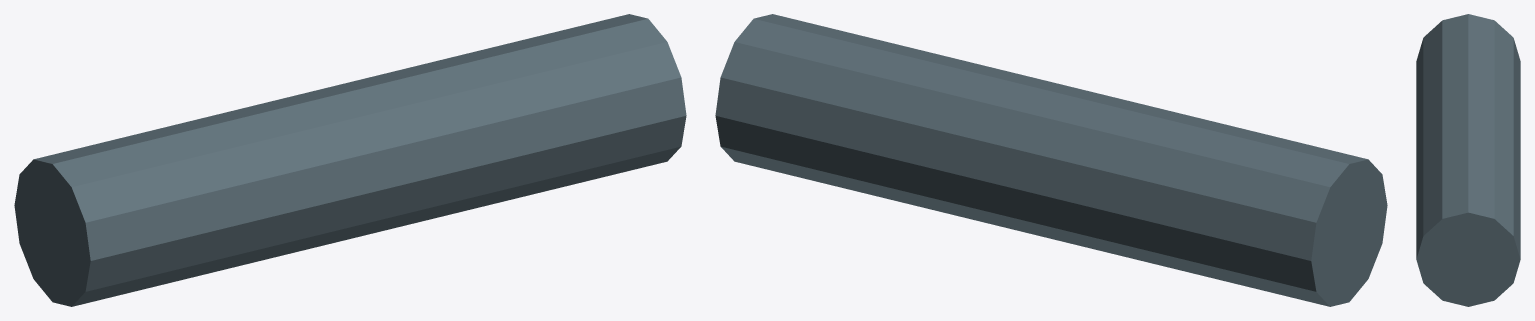
File: SM_Factory_Small_pipe_2m.glb
3 views of the same model, side by side, from view 1: azimuth 30°, elevation 25°; view 2: azimuth 150°, elevation 25°; view 3: azimuth 270°, elevation 25° (orthographic). The views are drawn at different scales.
Visible parts, largest first — view 1: SM_Factory_Small_pipe_2m; view 2: SM_Factory_Small_pipe_2m; view 3: SM_Factory_Small_pipe_2m.
Boxes of the visible parts, bbox=[...] form: SM_Factory_Small_pipe_2m: bbox=[14, 14, 686, 306]; SM_Factory_Small_pipe_2m: bbox=[715, 14, 1387, 306]; SM_Factory_Small_pipe_2m: bbox=[1416, 14, 1520, 306].
Bounding box in the file's own units: 2 × 0.4433 × 0.4433.
1 material, 1 textured.
